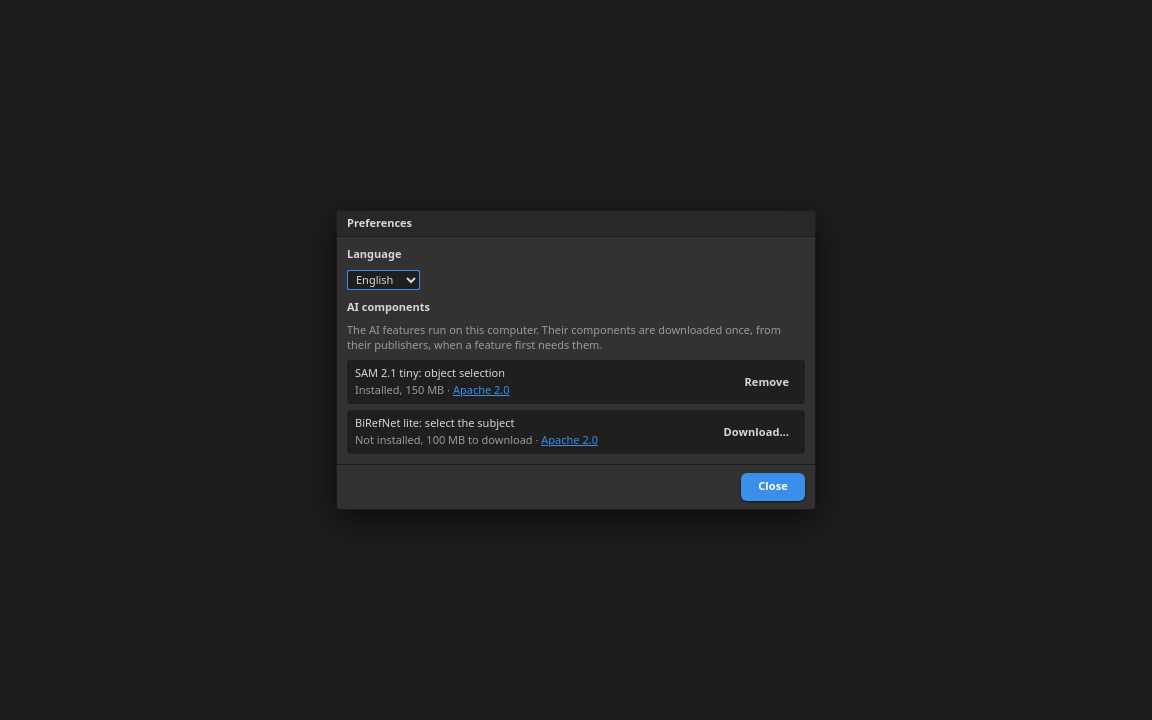
Test: Remove removes the component, and the list shows it as not installed
The width and height of the screenshot is (1152, 720).
Expected: the text "SAM 2.1 tiny: object selection" is shown, left=355, top=366, right=510, bottom=381
Click the button "Remove". click: (767, 382)
box: left=736, top=371, right=797, bottom=393
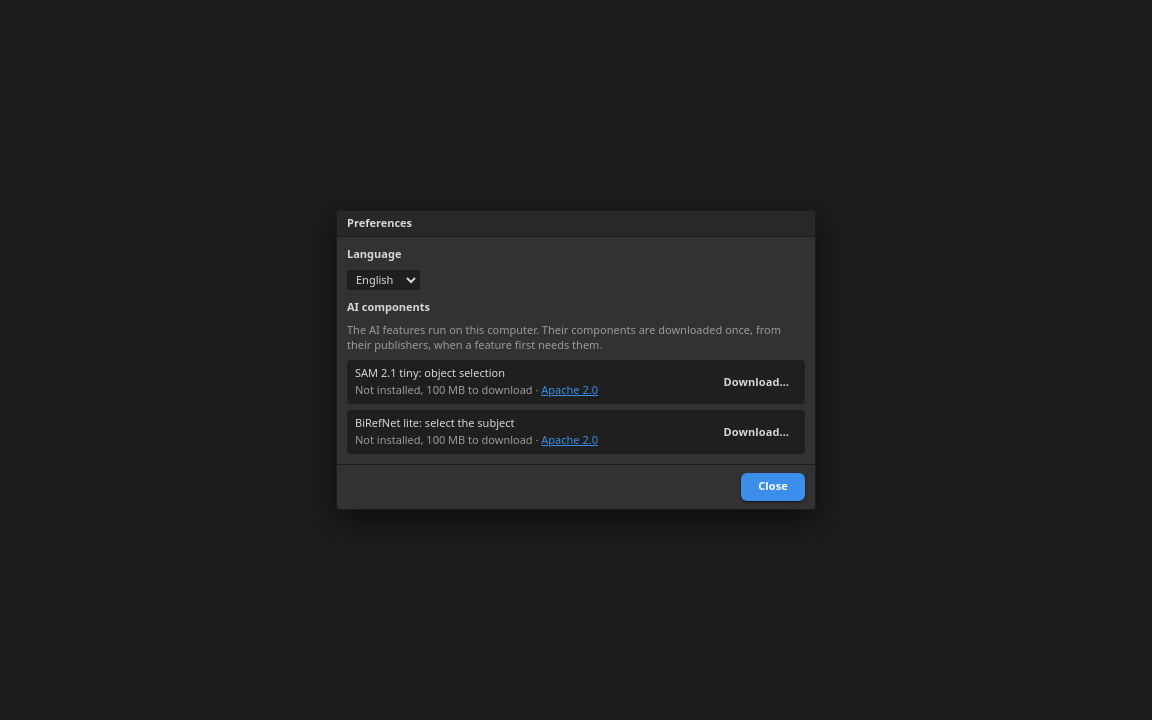
Expected: the text "Not installed, 100 MB to download · Apache 2.0" below "SAM 2.1 tiny: object selection" is shown, left=355, top=382, right=541, bottom=397
